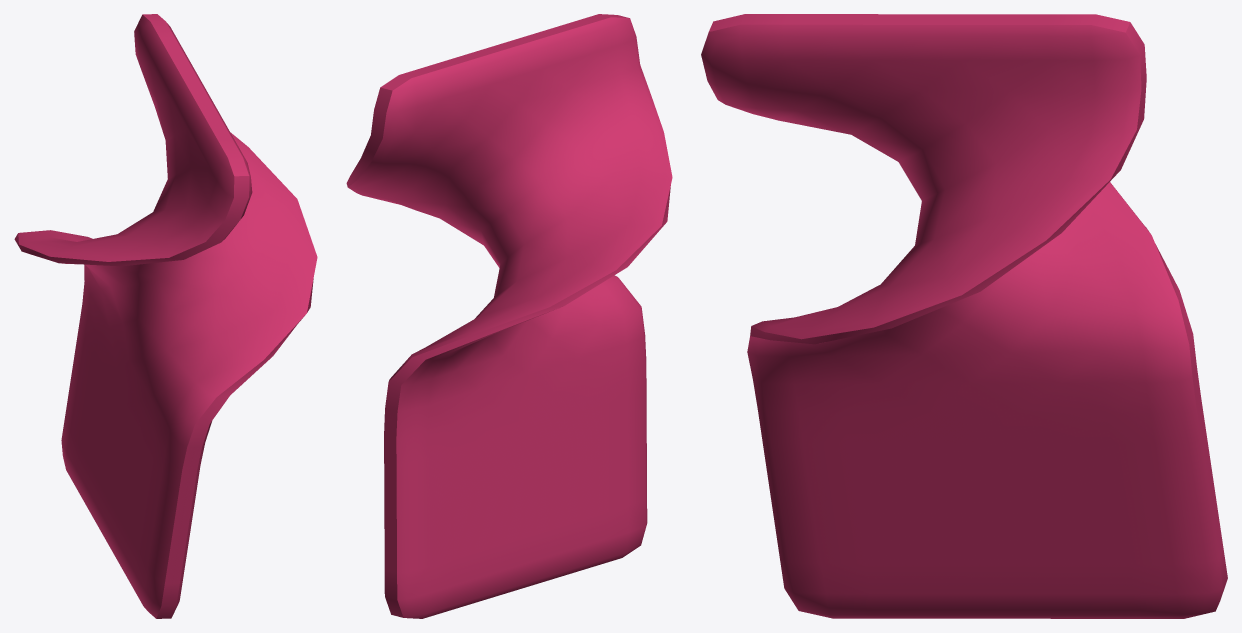
File: Tetralogy.fbx
3 renders of one model, left to right at view 1: azimuth 30°, elevation 25°; view 2: azimuth 150°, elevation 25°; view 3: azimuth 270°, elevation 25°, orthographic. The views are drawn at different scales.
Visible parts, largest first — view 1: Tetralogy; view 2: Tetralogy; view 3: Tetralogy.
Boxes of the visible parts, <box> form: Tetralogy: <box>14,14,317,618</box>; Tetralogy: <box>346,14,672,618</box>; Tetralogy: <box>701,14,1227,618</box>.
Bounding box in the file's own units: 75.44 × 136 × 98.2.
1 material, 1 textured.
